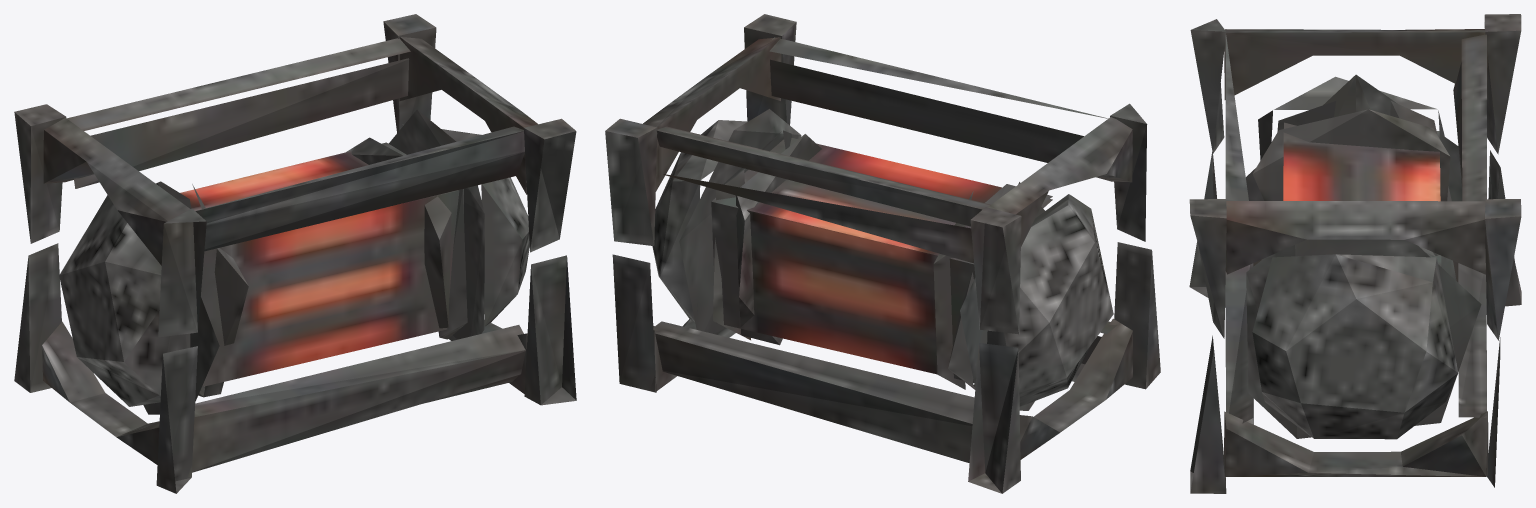
Rendered from res.fuel_dense.glb.
3 views of the same model, side by side, from view 1: azimuth 30°, elevation 25°; view 2: azimuth 150°, elevation 25°; view 3: azimuth 270°, elevation 25° (orthographic). The views are drawn at different scales.
Visible parts, largest first — view 1: body; view 2: body; view 3: body.
Part boxes in pixels (x1,y1,x2,y2): body: (14,14,576,493); body: (605,14,1160,493); body: (1189,14,1521,493).
Bounding box in the file's own units: 0.4 × 0.2543 × 0.2752.
1 material, 1 textured.
